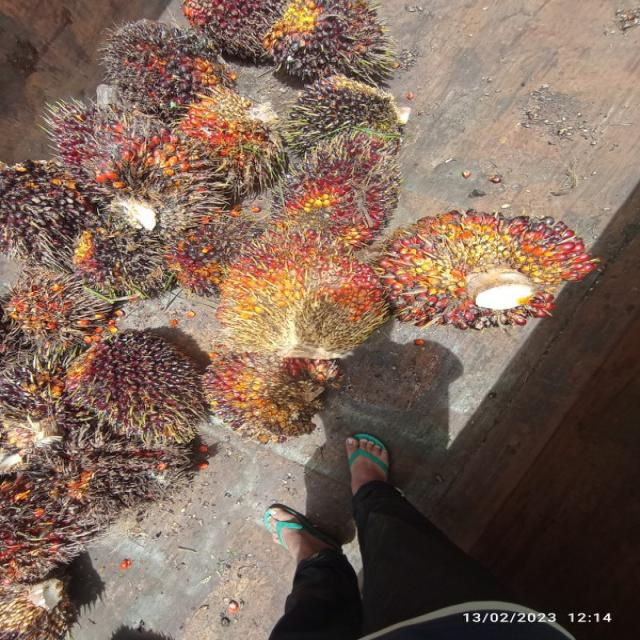fraksi 00: (278, 0, 394, 84), (45, 222, 166, 300), (288, 73, 401, 154), (0, 153, 82, 263), (0, 353, 60, 429)
fraksi 1: (182, 328, 360, 448), (256, 130, 414, 249), (68, 326, 218, 442), (98, 15, 225, 109), (48, 89, 167, 179)
fraksi 3: (376, 198, 594, 349), (212, 216, 388, 370), (99, 115, 222, 228)
fraksi 4: (177, 85, 280, 177), (0, 266, 101, 348)
